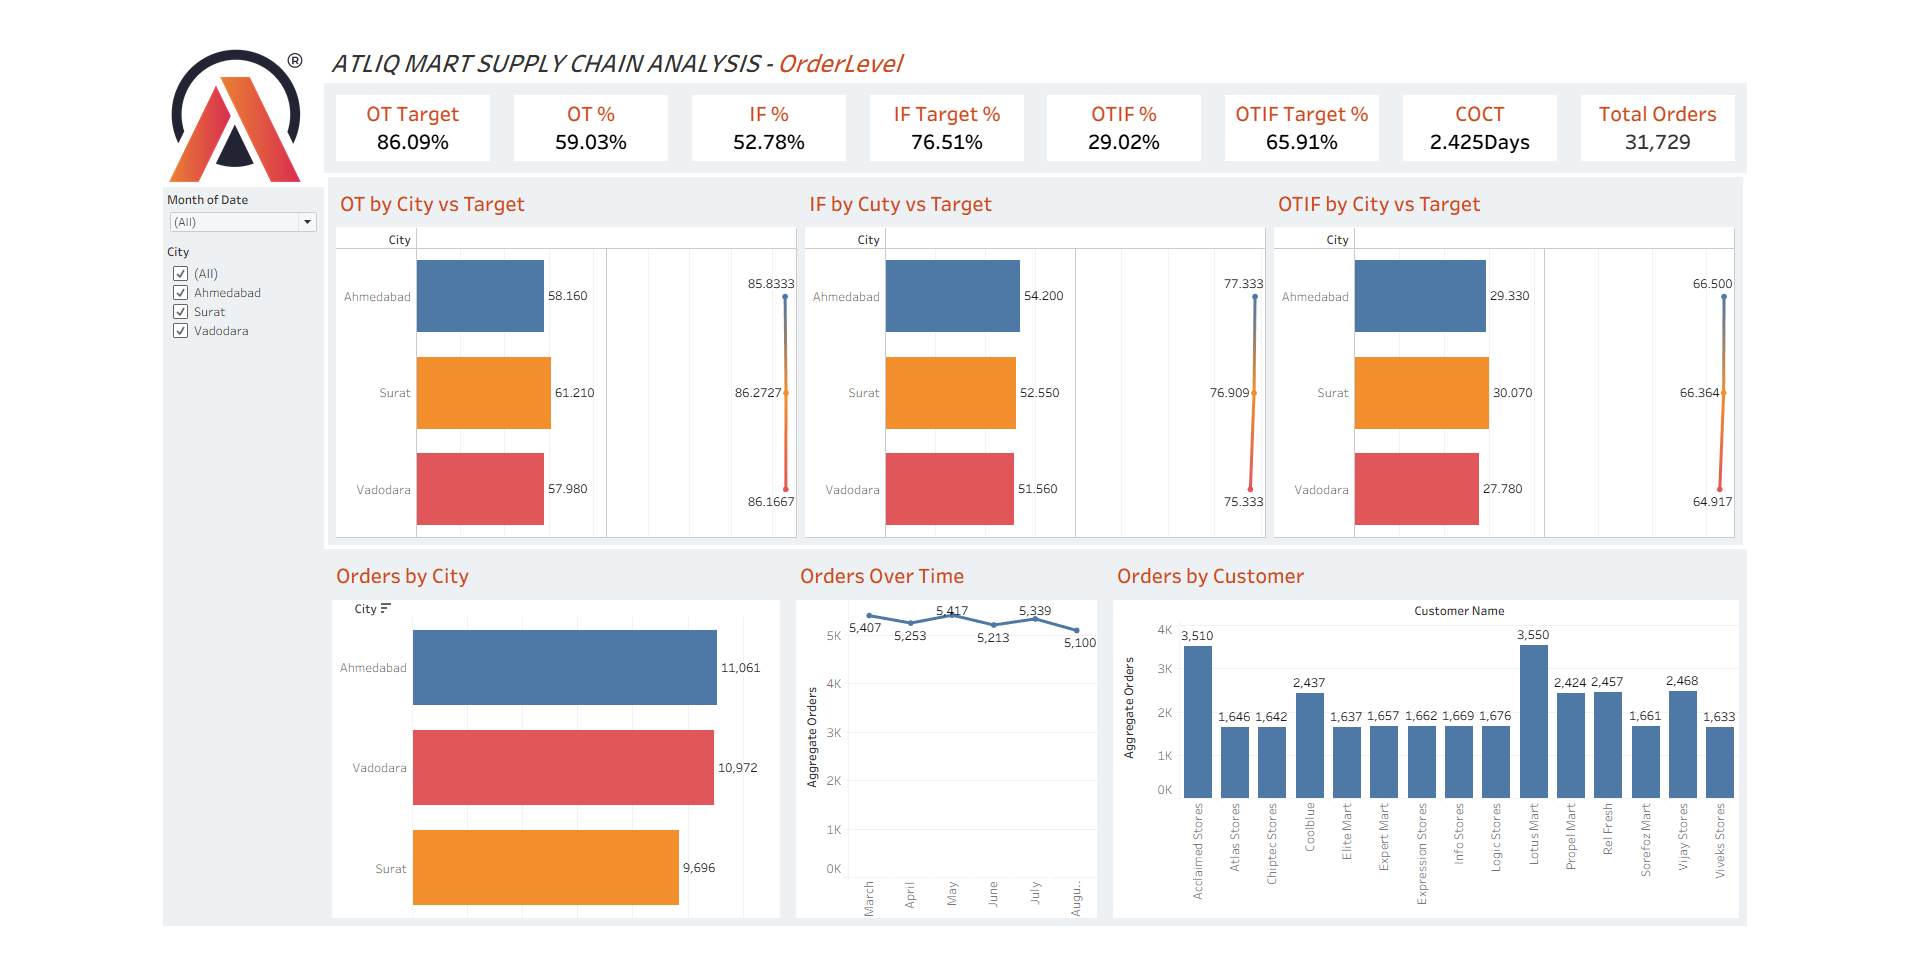

The dashboard page shown, as its layout file describes it:
{"tool":"tableau","page":{"name":"Order Level","canvas":[1600,900],"ordinal":1},"visuals":[{"type":"image","param":"Image/Atliq_logo_for_dashboard.png","box":[8,8,161,145]},{"type":"title","box":[169,8,1423,41]},{"type":"worksheet","title":"OT Target","mark":"Automatic","box":[169,49,177.9,90]},{"type":"worksheet","title":"OT %","mark":"Automatic","box":[346.9,49,177.9,90]},{"type":"worksheet","title":"IF %","mark":"Automatic","box":[524.8,49,177.9,90]},{"type":"worksheet","title":"IF Target","mark":"Automatic","box":[702.6,49,177.9,90]},{"type":"worksheet","title":"OTIF %","mark":"Automatic","box":[880.5,49,177.9,90]},{"type":"worksheet","title":"OTIF Target","mark":"Automatic","box":[1058.4,49,177.9,90]},{"type":"worksheet","title":"COCT","mark":"Automatic","box":[1236.2,49,177.9,90]},{"type":"worksheet","title":"Orders","mark":"Automatic","box":[1414.1,49,177.9,90]},{"type":"worksheet","title":"OT by City","mark":"Automatic","rows":["city"],"cols":["Calculation_1114640975993081872","Calculation_1114640975975804931"],"box":[177,147,469,360.5]},{"type":"worksheet","title":"IF BY City","mark":"Automatic","rows":["city"],"cols":["Calculation_1114640975993704465","Calculation_1114640975976292356"],"box":[646,147,469,360.5]},{"type":"worksheet","title":"OTIF by City","mark":"Automatic","rows":["city"],"cols":["Calculation_1114640975993991186","Calculation_1114640975976456197"],"box":[1115,147,469,360.5]},{"type":"filter","title":"COCT","param":"[federated.1tx64m90us22kp15gms3t061nwbw].[mn:Date:ok]","box":[8,153,161,52]},{"type":"filter","title":"Orders by City","param":"[federated.1tx64m90us22kp15gms3t061nwbw].[none:city:nk]","box":[8,205,161,108]},{"type":"worksheet","title":"Orders by City","mark":"Automatic","rows":["city"],"cols":["Calculation_1114640975974326273"],"box":[169,515.5,464,376.5]},{"type":"worksheet","title":"Orders Over Time","mark":"Automatic","rows":["Calculation_1114640975974326273"],"cols":["order_placement_date (fact!orders!aggregate)"],"box":[633,515.5,317,376.5]},{"type":"worksheet","title":"Orders By customer","mark":"Automatic","rows":["Calculation_1114640975974326273"],"cols":["customer_name"],"box":[950,515.5,641.8,376.5]}]}

Visuals, with their boxes on the page's 1600x900 design canvas (x1, y1, x2, y2). These are canvas units, not pixel positions in the 1914x974 screenshot, which may show the page scaled, cropped or inside an application window:
image: 8:8:169:153
title: 169:8:1592:49
"OT Target" worksheet: 169:49:347:139
"OT %" worksheet: 347:49:525:139
"IF %" worksheet: 525:49:703:139
"IF Target" worksheet: 703:49:880:139
"OTIF %" worksheet: 880:49:1058:139
"OTIF Target" worksheet: 1058:49:1236:139
"COCT" worksheet: 1236:49:1414:139
"Orders" worksheet: 1414:49:1592:139
"OT by City" worksheet: 177:147:646:508
"IF BY City" worksheet: 646:147:1115:508
"OTIF by City" worksheet: 1115:147:1584:508
"COCT" filter: 8:153:169:205
"Orders by City" filter: 8:205:169:313
"Orders by City" worksheet: 169:516:633:892
"Orders Over Time" worksheet: 633:516:950:892
"Orders By customer" worksheet: 950:516:1592:892
